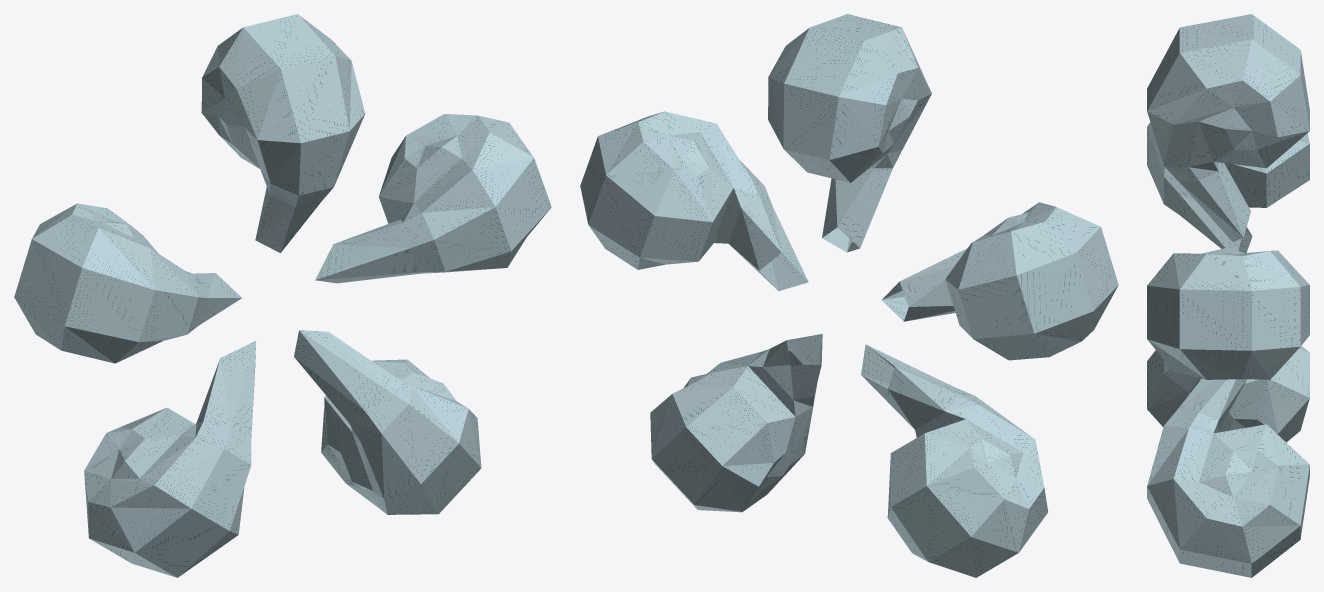
Rendered from BR_Castform-Shiny03.obj.
3 renders of one model, left to right at view 1: azimuth 30°, elevation 25°; view 2: azimuth 150°, elevation 25°; view 3: azimuth 270°, elevation 25°, orthographic. The views are drawn at different scales.
Visible parts, largest first — view 1: powalen_i; view 2: powalen_i; view 3: powalen_i.
Boxes of the visible parts, x1,y1,x2,y2 form: powalen_i: (14,14,551,577); powalen_i: (580,14,1118,577); powalen_i: (1147,14,1309,577).
Bounding box in the file's own units: 3.71 × 3.52 × 1.07.
1 material, 1 textured.
